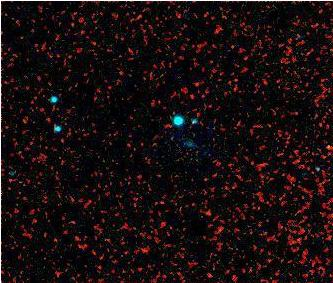star: (313, 126, 333, 156)
